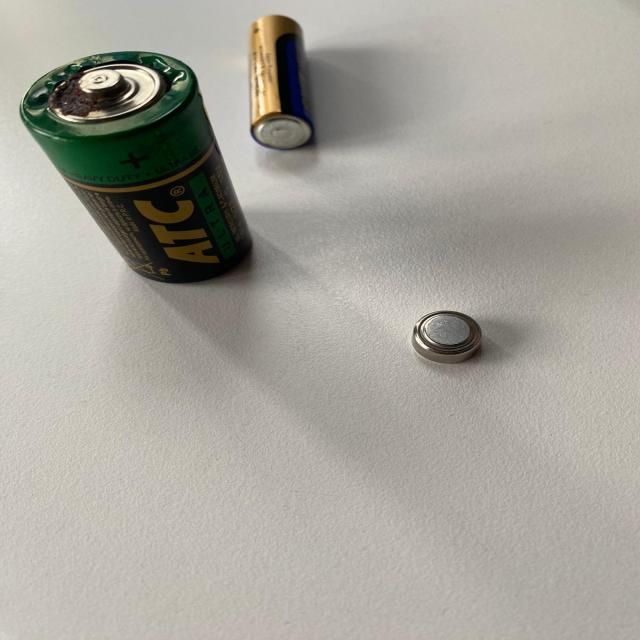AA: (227, 10, 328, 156)
COIN: (384, 304, 496, 374)
